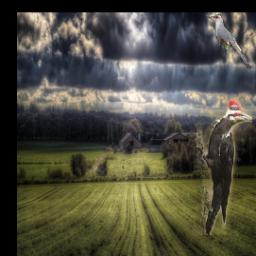Cuckoo: (205, 13, 252, 70)
Woodpecker: (194, 100, 252, 235)
